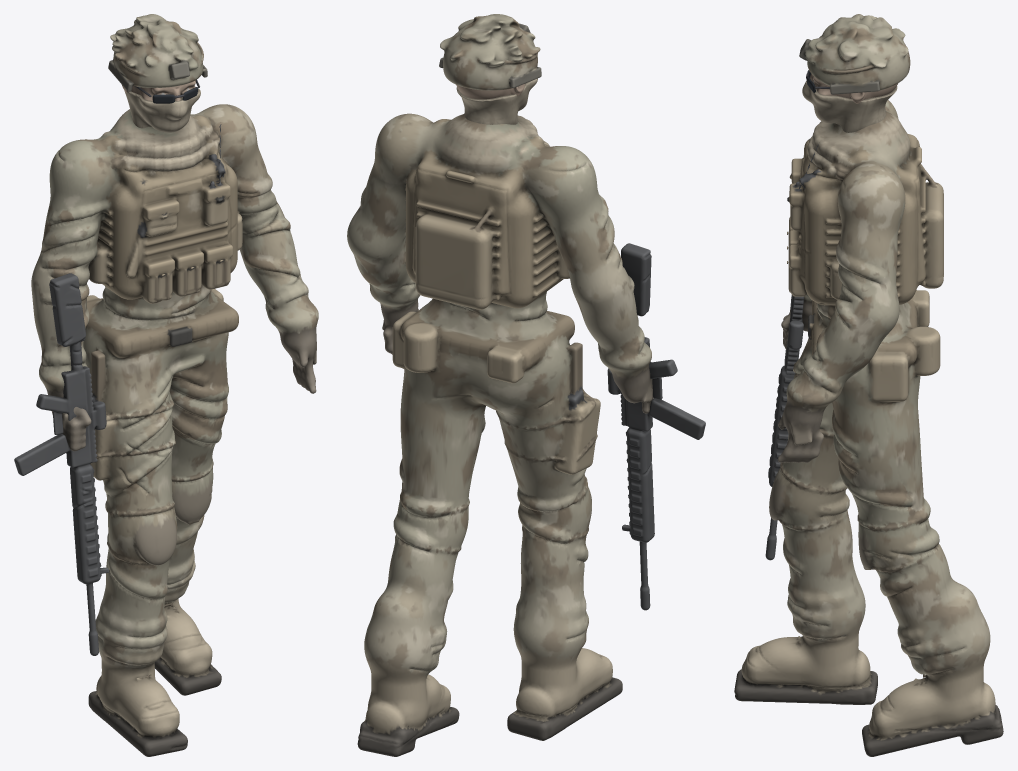
File: soldier.glb
3 views of the same model, side by side, from view 1: azimuth 30°, elevation 25°; view 2: azimuth 150°, elevation 25°; view 3: azimuth 270°, elevation 25° (orthographic). The views are drawn at different scales.
Visible parts, largest first — view 1: Soldier; view 2: Soldier; view 3: Soldier.
Part boxes in pixels (x1,y1,x2,y2): Soldier: [14, 14, 318, 756]; Soldier: [347, 14, 705, 756]; Soldier: [734, 14, 1003, 756].
Bounding box in the file's own units: 0.8512 × 1.8 × 0.6242.
